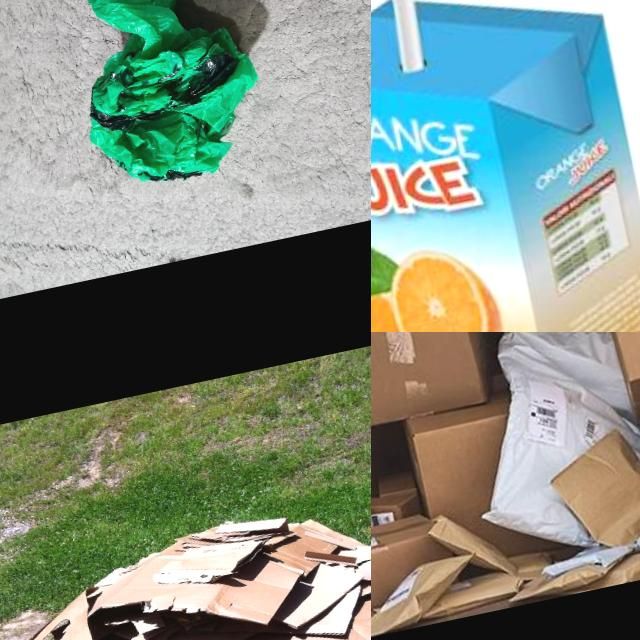caixinha: (371, 0, 640, 332)
papelão: (0, 470, 371, 640), (397, 370, 572, 574), (371, 332, 507, 430), (544, 418, 640, 555), (371, 509, 454, 623)
sacola plástica: (0, 3, 163, 225)
